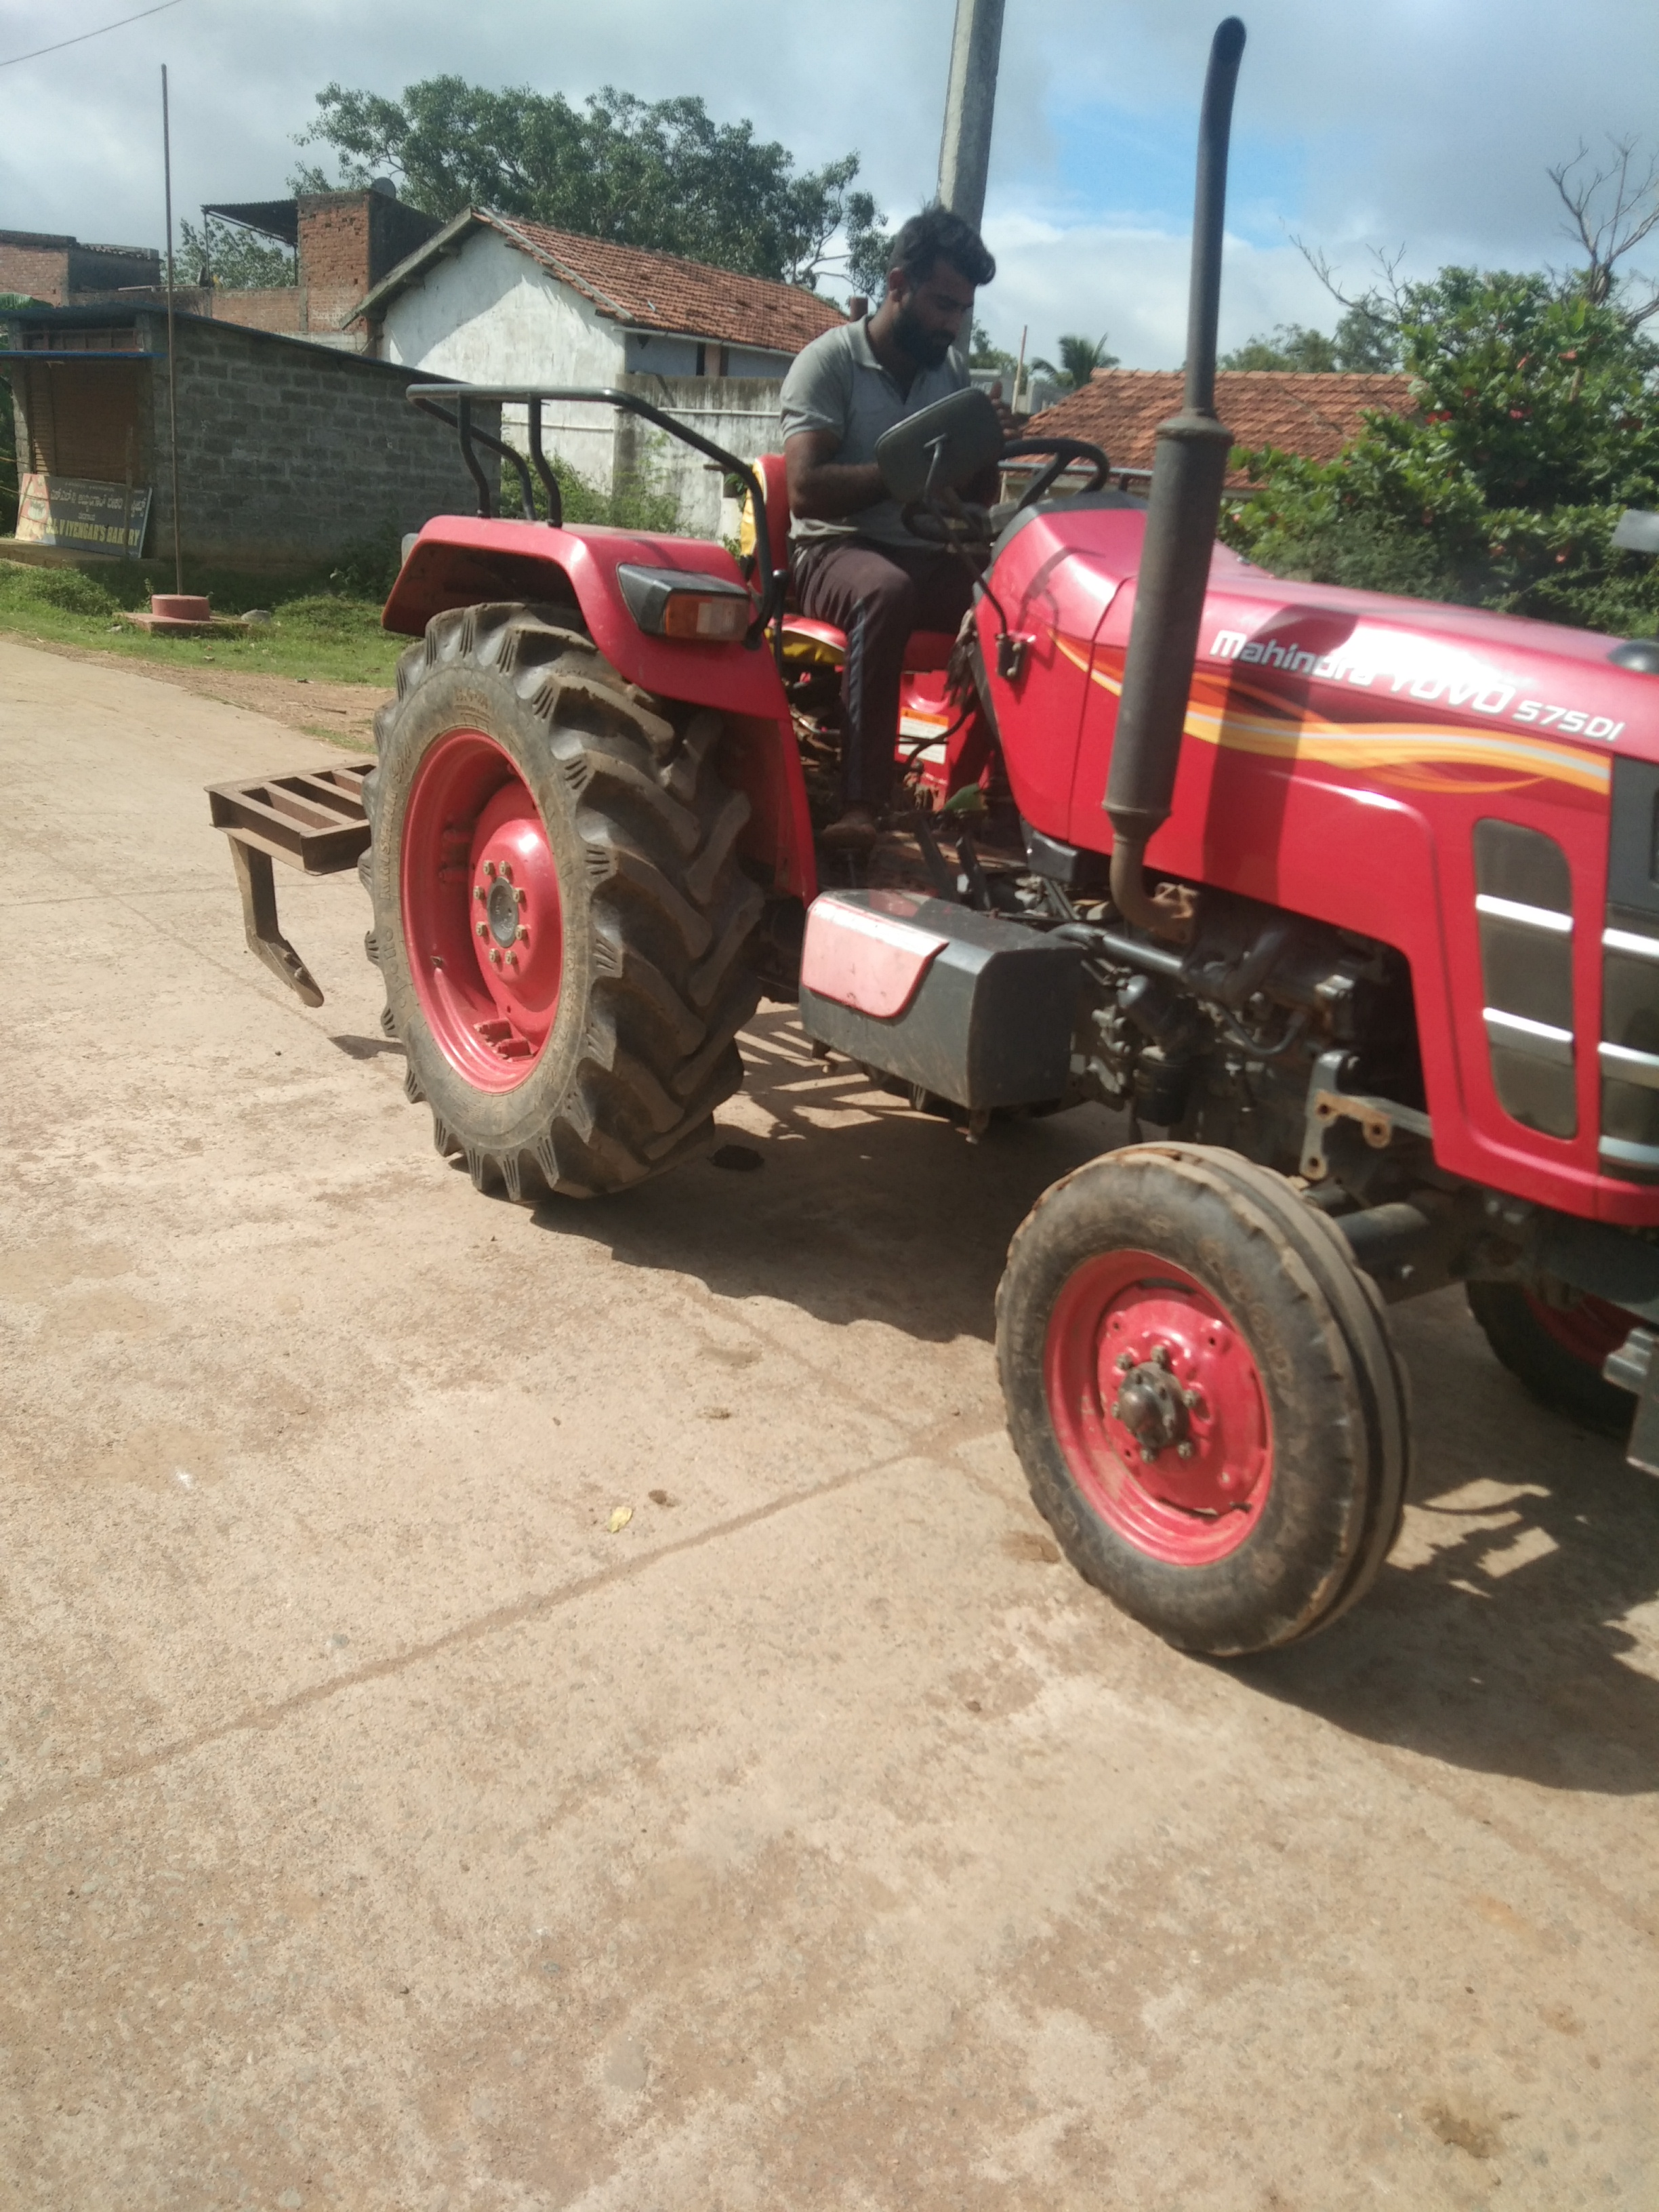tractor: (199, 7, 1659, 1667)
